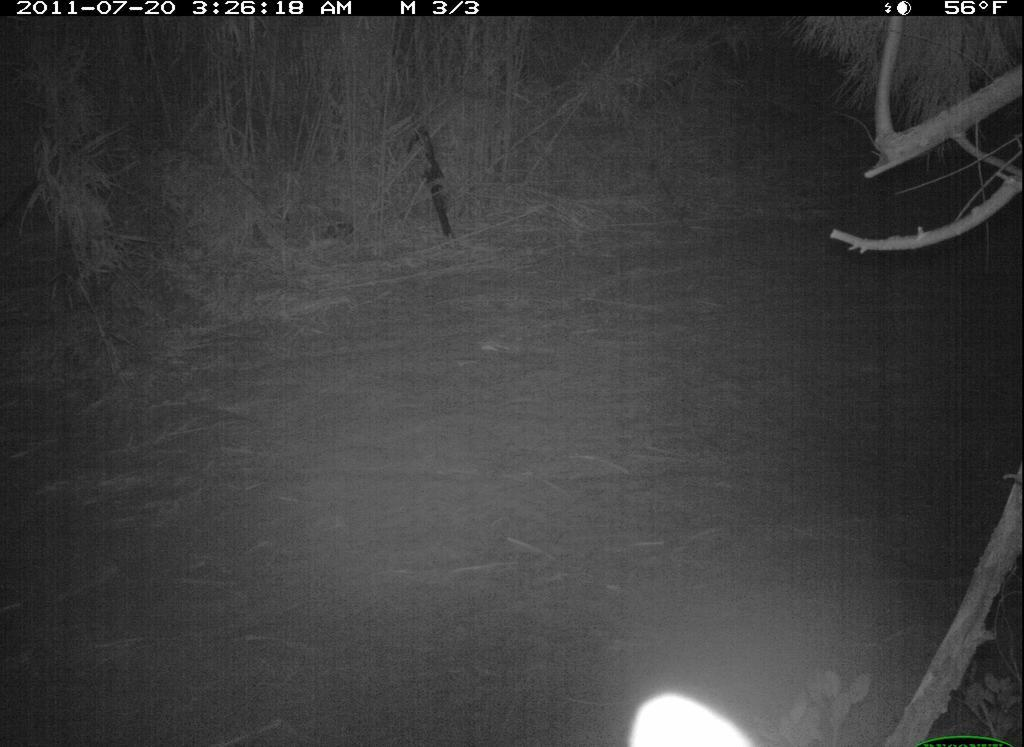raccoon: (625, 690, 768, 747)
